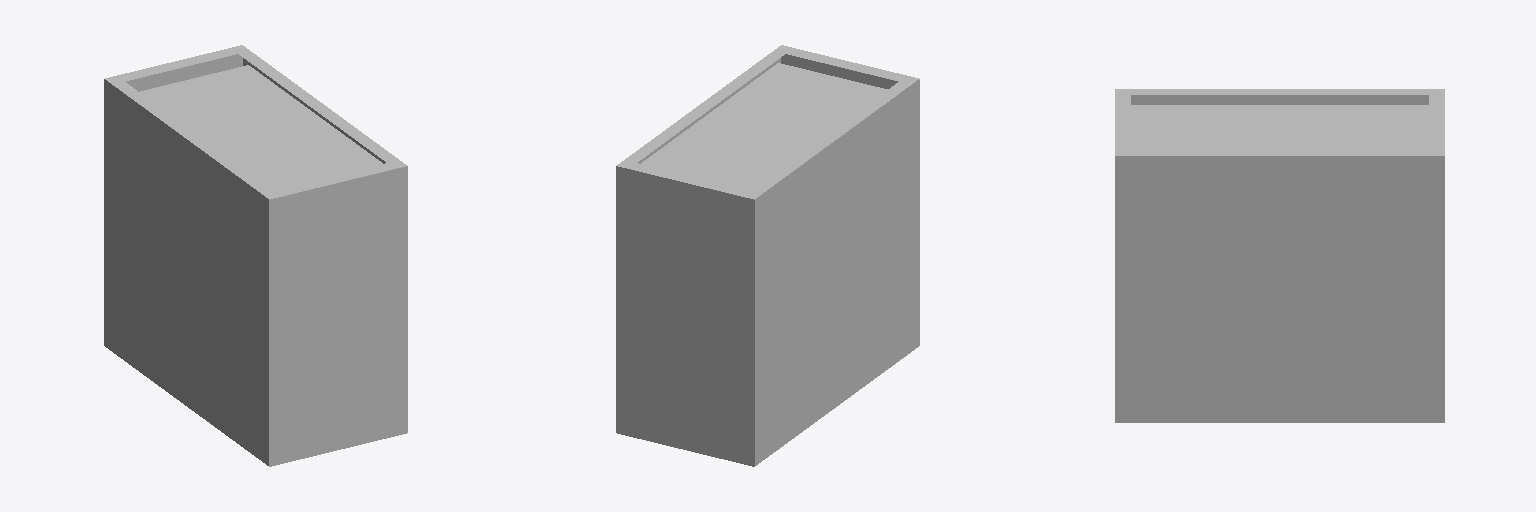
File: tallsection_uv.obj
3 renders of one model, left to right at view 1: azimuth 30°, elevation 25°; view 2: azimuth 150°, elevation 25°; view 3: azimuth 270°, elevation 25°, orthographic.
Visible parts, largest first — view 1: TallBuilding MainBuilding TallSection, RoofFlooring TallBuilding MainBuilding; view 2: TallBuilding MainBuilding TallSection, RoofFlooring TallBuilding MainBuilding; view 3: TallBuilding MainBuilding TallSection, RoofFlooring TallBuilding MainBuilding.
Boxes of the visible parts, x1,y1,x2,y2 form: TallBuilding MainBuilding TallSection: [104, 45, 407, 466]; RoofFlooring TallBuilding MainBuilding: [140, 65, 382, 189]; TallBuilding MainBuilding TallSection: [616, 45, 919, 466]; RoofFlooring TallBuilding MainBuilding: [641, 63, 887, 189]; TallBuilding MainBuilding TallSection: [1115, 89, 1444, 422]; RoofFlooring TallBuilding MainBuilding: [1131, 105, 1428, 149].
Bounding box in the file's own units: 6.84 × 12.63 × 14.16.